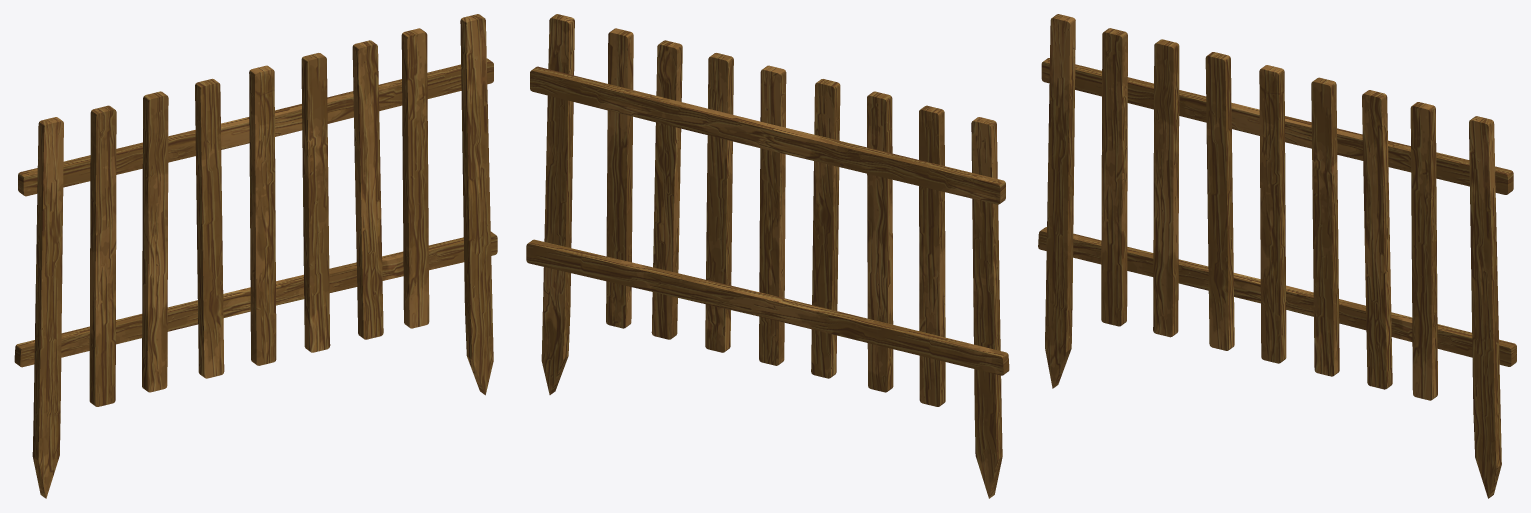
The model's file is Wooden Fence 3D Model.glb.
The picture shows the model from 3 angles, left to right: view 1: azimuth 30°, elevation 25°; view 2: azimuth 150°, elevation 25°; view 3: azimuth 330°, elevation 25°; orthographic projection.
Visible parts, largest first — view 1: pCube9, pCube1, pCube2, pCube3, pCube8, pCube5, pCube6, pCube4, pCube7, pCube11, pCube10; view 2: pCube11, pCube10, pCube9, pCube1, pCube2, pCube3, pCube5, pCube4, pCube8, pCube6, pCube7; view 3: pCube9, pCube1, pCube2, pCube7, pCube6, pCube4, pCube5, pCube8, pCube3, pCube11, pCube10.
Part boxes in pixels (x1=…): pCube9: x1=460, y1=14, x2=493, y2=395; pCube1: x1=32, y1=117, x2=63, y2=498; pCube2: x1=89, y1=105, x2=116, y2=406; pCube3: x1=142, y1=91, x2=168, y2=392; pCube8: x1=401, y1=28, x2=429, y2=328; pCube5: x1=249, y1=65, x2=276, y2=365; pCube6: x1=301, y1=53, x2=330, y2=352; pCube4: x1=195, y1=78, x2=224, y2=378; pCube7: x1=352, y1=40, x2=383, y2=339; pCube11: x1=18, y1=58, x2=493, y2=196; pCube10: x1=14, y1=231, x2=497, y2=367; pCube11: x1=530, y1=66, x2=1005, y2=204; pCube10: x1=526, y1=239, x2=1009, y2=375; pCube9: x1=541, y1=14, x2=574, y2=394; pCube1: x1=971, y1=117, x2=1002, y2=498; pCube2: x1=919, y1=105, x2=945, y2=406; pCube3: x1=867, y1=91, x2=893, y2=392; pCube5: x1=759, y1=65, x2=786, y2=365; pCube4: x1=811, y1=79, x2=840, y2=378; pCube8: x1=606, y1=28, x2=633, y2=328; pCube6: x1=705, y1=53, x2=733, y2=352; pCube7: x1=651, y1=40, x2=682, y2=339; pCube9: x1=1469, y1=116, x2=1501, y2=498; pCube1: x1=1045, y1=14, x2=1075, y2=388; pCube2: x1=1101, y1=28, x2=1127, y2=326; pCube7: x1=1362, y1=90, x2=1392, y2=389; pCube6: x1=1311, y1=77, x2=1339, y2=376; pCube4: x1=1205, y1=52, x2=1234, y2=350; pCube5: x1=1259, y1=65, x2=1286, y2=363; pCube8: x1=1410, y1=102, x2=1437, y2=400; pCube3: x1=1153, y1=39, x2=1179, y2=337; pCube11: x1=1041, y1=58, x2=1513, y2=194; pCube10: x1=1038, y1=227, x2=1516, y2=366.
Bounding box in the file's own units: 0.1209 × 0.0914 × 0.005.
Materials: 1 (1 with a texture image).
